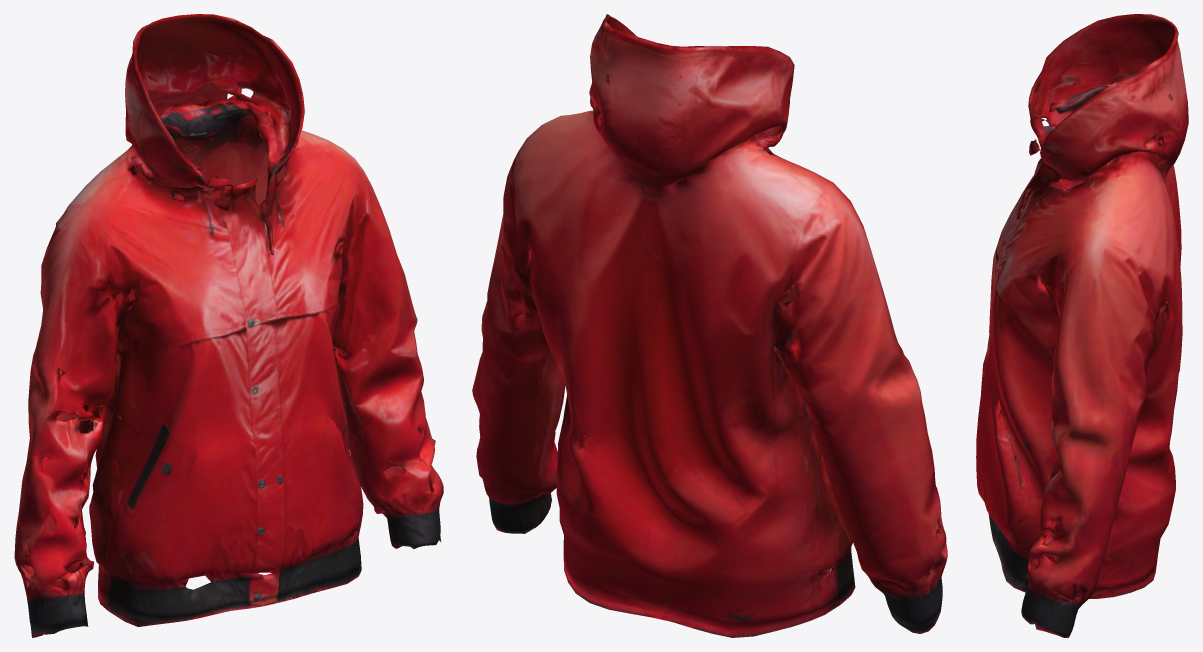
Rendered from chompa roja.glb.
3 views of the same model, side by side, from view 1: azimuth 30°, elevation 25°; view 2: azimuth 150°, elevation 25°; view 3: azimuth 270°, elevation 25° (orthographic). The views are drawn at different scales.
Bounding box in the file's own units: 1.62 × 1.99 × 0.7445.
Materials: 1 (1 with a texture image).
